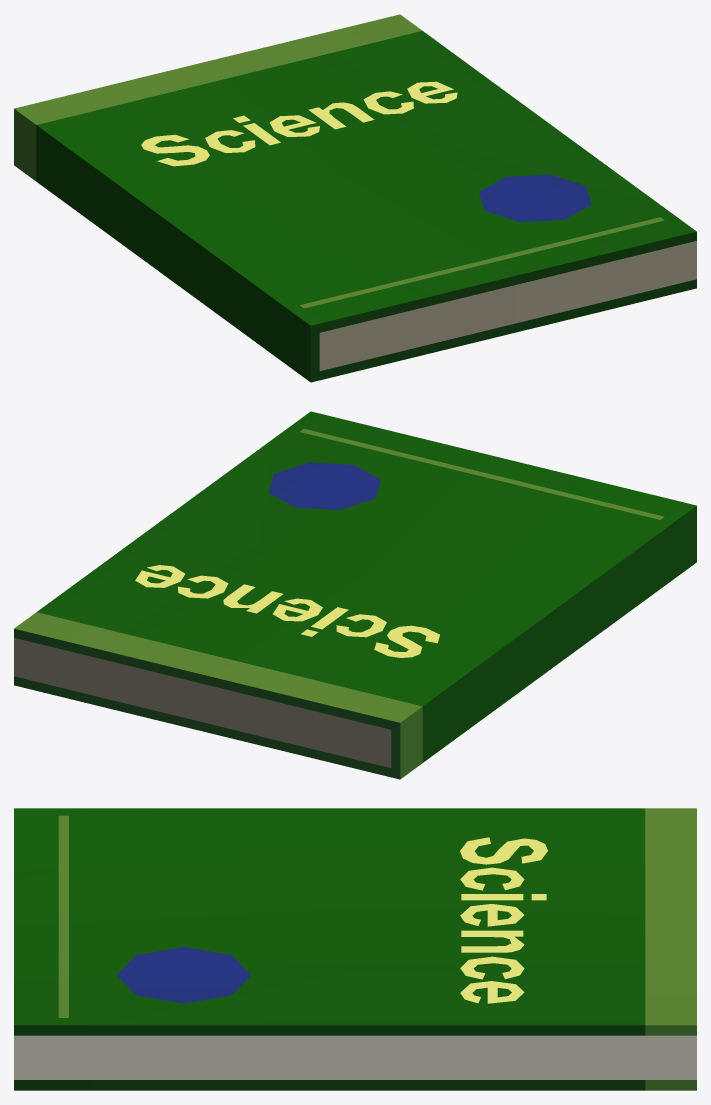
Rendered from CR_ScienceBook.FBX.
The picture shows the model from 3 angles, top to bottom: view 1: azimuth 30°, elevation 25°; view 2: azimuth 150°, elevation 25°; view 3: azimuth 270°, elevation 25°; orthographic projection. The views are drawn at different scales.
Visible parts, largest first — view 1: CR_ScienceBook; view 2: CR_ScienceBook; view 3: CR_ScienceBook.
Boxes of the visible parts, left/top/right/bottom form: CR_ScienceBook: left=14, top=14, right=696, bottom=382; CR_ScienceBook: left=14, top=411, right=696, bottom=779; CR_ScienceBook: left=14, top=808, right=696, bottom=1090.
Bounding box in the file's own units: 17.9 × 2.54 × 23.83.
